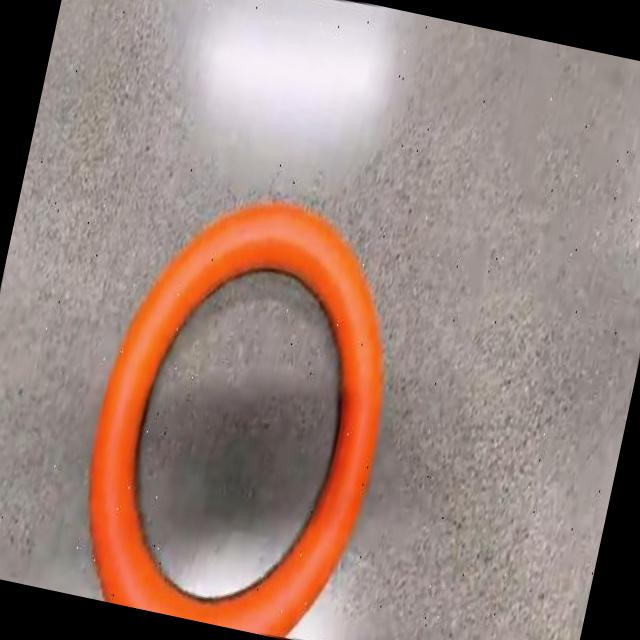note: (89, 206, 383, 635)
